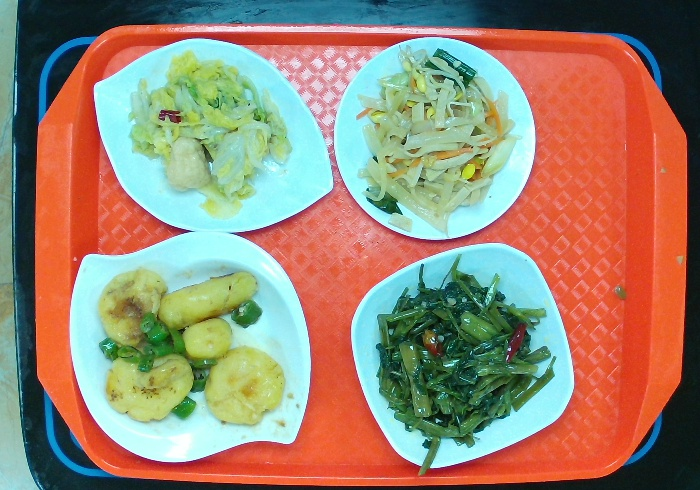RJxy-Da_Du_Pan: (86, 41, 345, 231)
RJxy-Shuang_Jiao_Pan: (65, 229, 307, 460)
RJxy-Si_Fang_Wan: (343, 235, 579, 466)
RJxy-Xiao_Yuan_Die: (336, 42, 538, 241)
